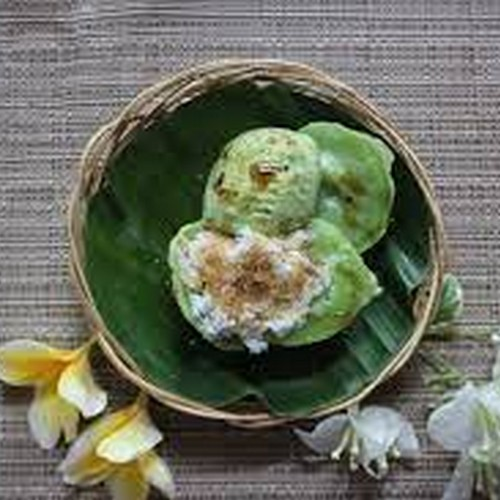laklak: (181, 112, 393, 328)
